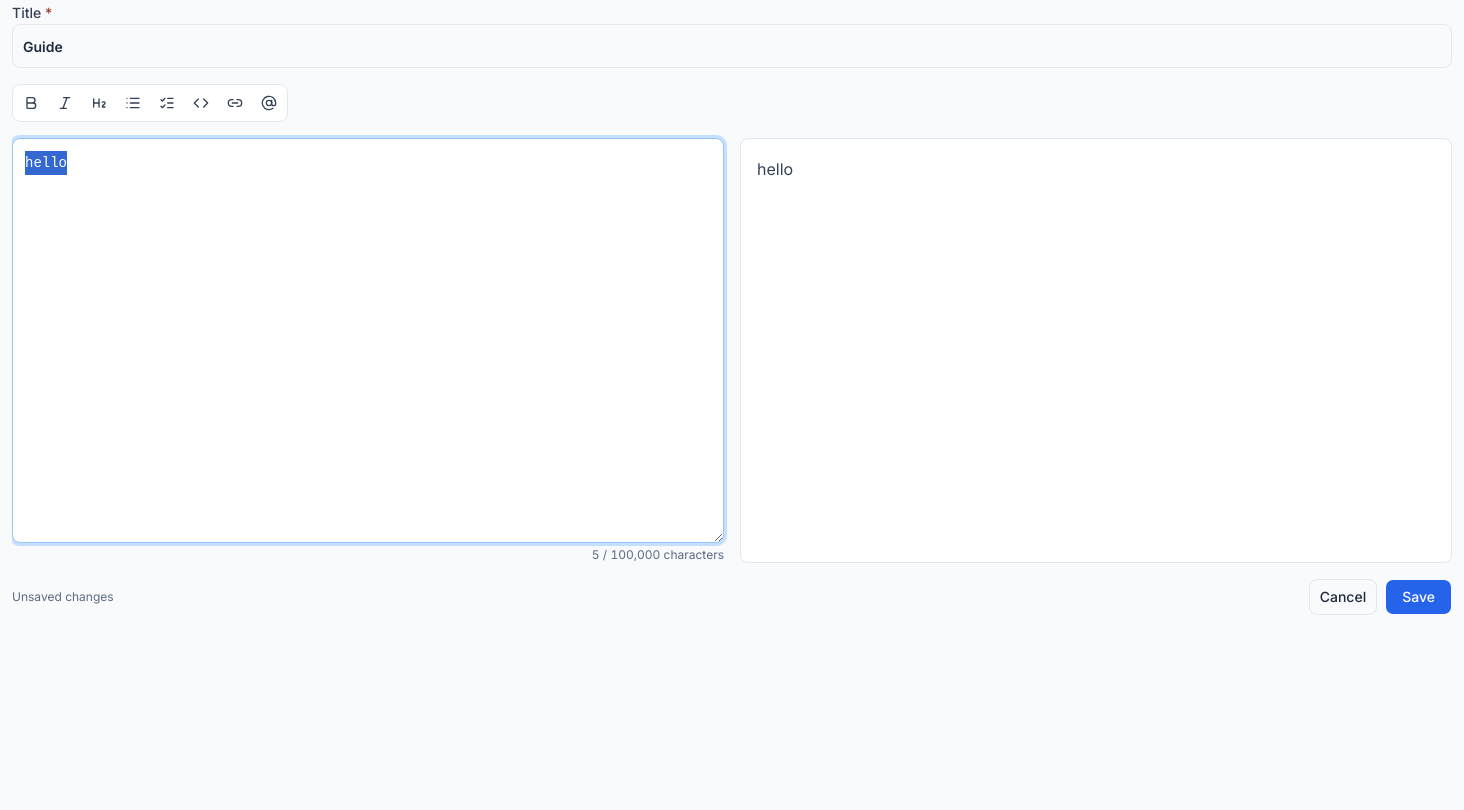
it: PageEditor › formats the selection from the toolbar and previews it
Click the button named "Bold" at (31, 103), box [15,87,47,119]
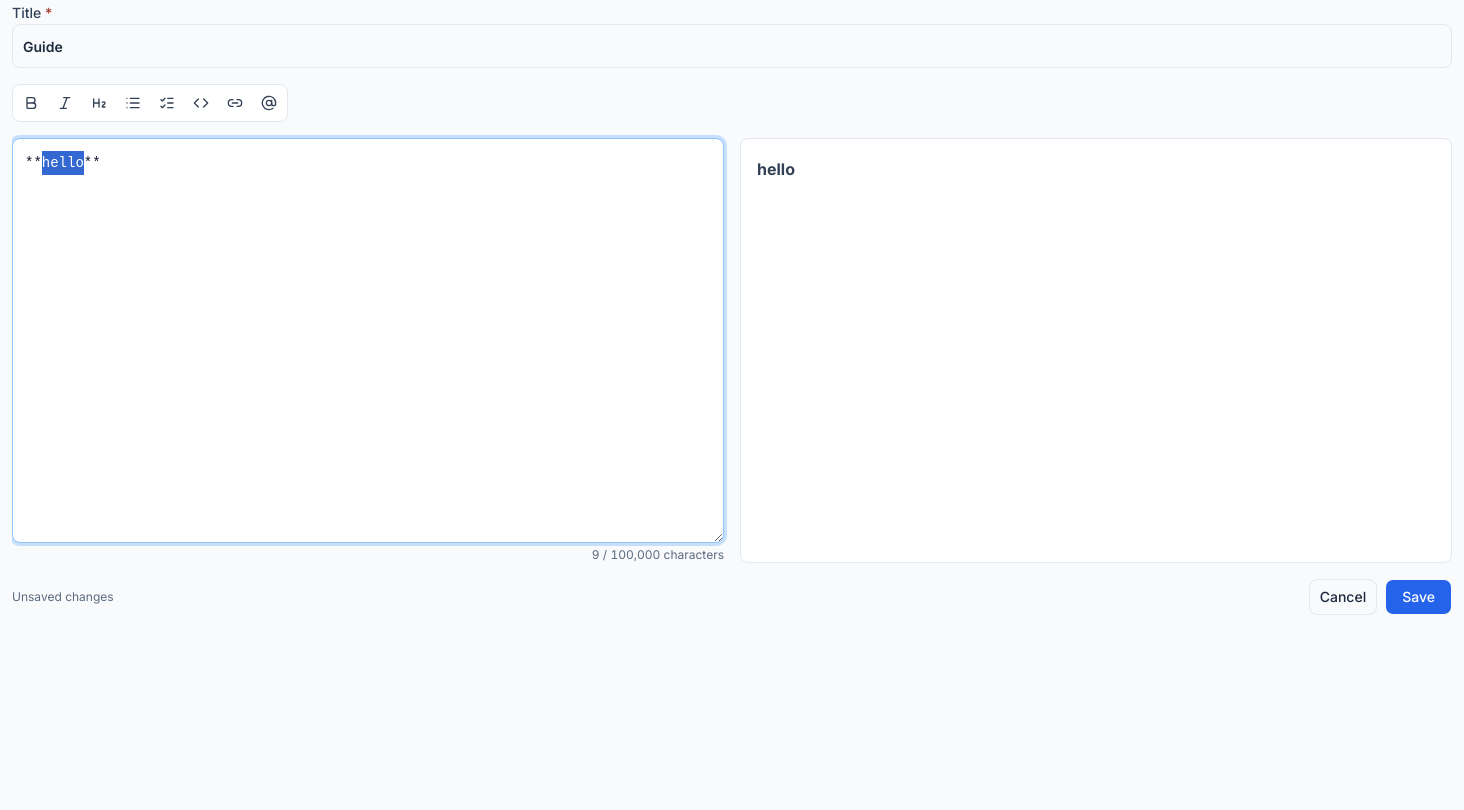
Expected: the text "hello" is shown, [757,159,795,179]
Now the text box named "Page content (Markdown)" holds "**hello**", box [12,138,724,543]
